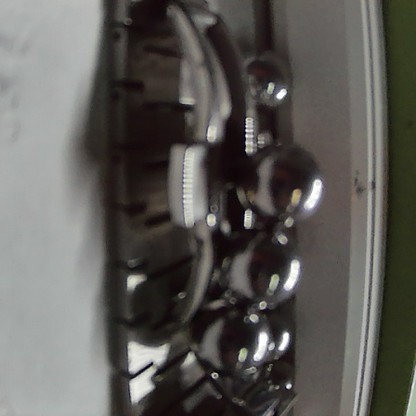ironball: (194, 303, 267, 384), (244, 143, 314, 218), (221, 231, 288, 296), (247, 56, 290, 106)
